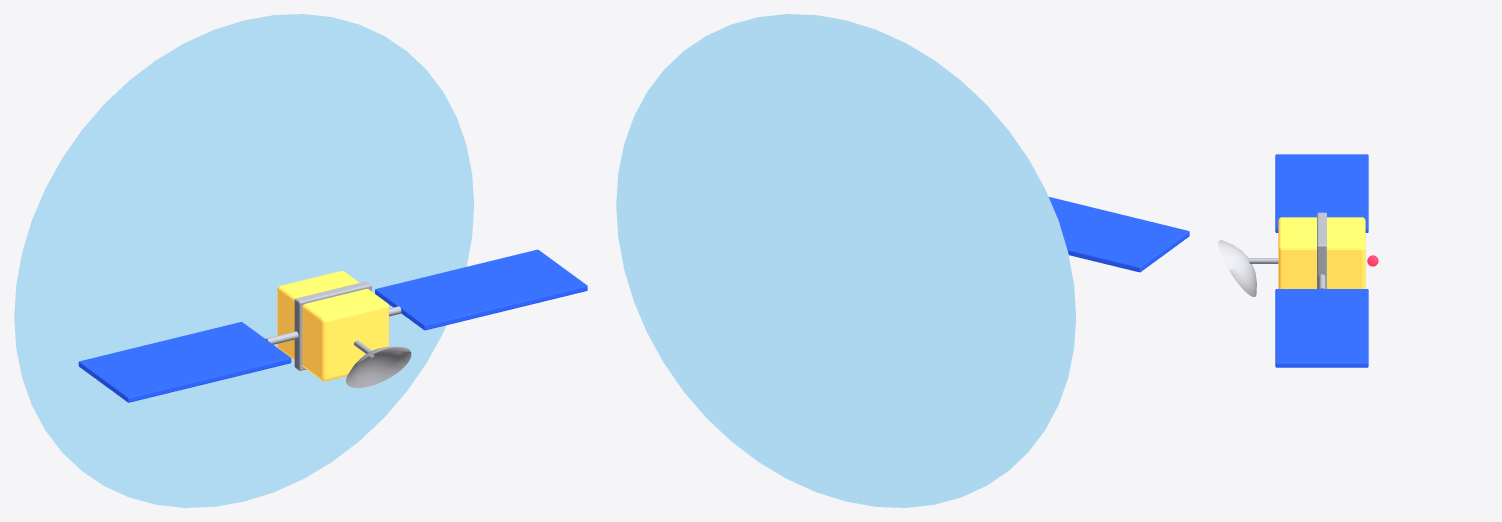
Rendered from satellite.glb.
3 views of the same model, side by side, from view 1: azimuth 30°, elevation 25°; view 2: azimuth 150°, elevation 25°; view 3: azimuth 270°, elevation 25° (orthographic). The views are drawn at different scales.
Parts seen in each view (by area): view 1: lueur, aile-1, aile1, corps, parabole, ceinture; view 2: lueur, aile-1; view 3: aile1, aile-1, corps, parabole, ceinture.
Part boxes in pixels (<box>): lueur: <box>14,14,474,507</box>; aile-1: <box>78,322,291,402</box>; aile1: <box>375,249,587,330</box>; corps: <box>277,271,388,381</box>; parabole: <box>346,346,411,387</box>; ceinture: <box>294,281,371,370</box>; lueur: <box>616,14,1076,507</box>; aile-1: <box>1049,197,1189,272</box>; aile1: <box>1275,289,1368,367</box>; aile-1: <box>1275,154,1368,232</box>; corps: <box>1278,217,1365,288</box>; parabole: <box>1218,240,1256,296</box>; ceinture: <box>1317,212,1326,288</box>.
Bounding box in the file's own units: 6.8 × 6.8 × 3.71.
